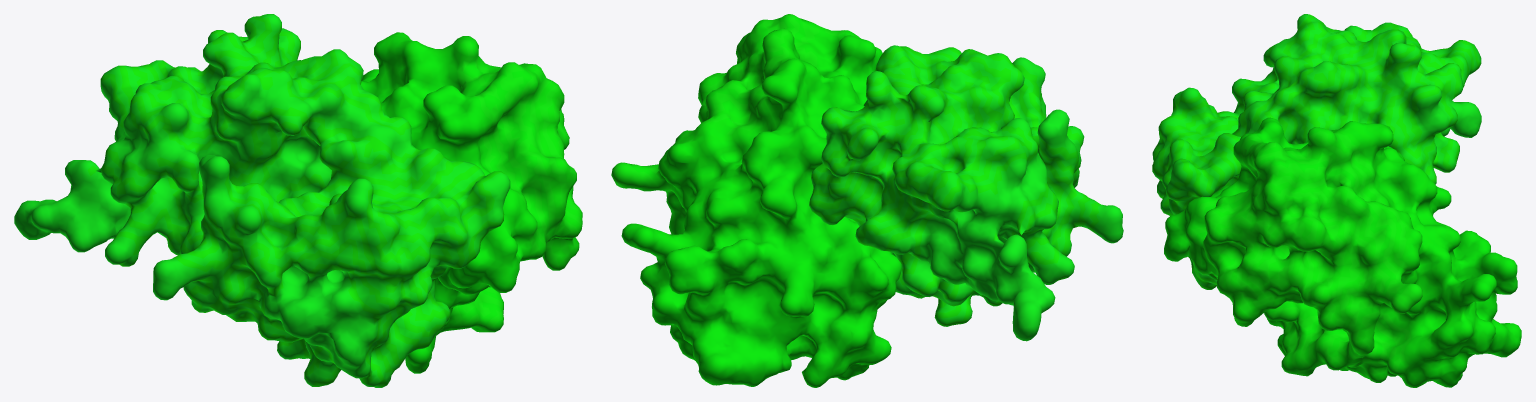
File: Protein chain A & B surface Green2.fbx
The picture shows the model from 3 angles, left to right: view 1: azimuth 30°, elevation 25°; view 2: azimuth 150°, elevation 25°; view 3: azimuth 270°, elevation 25°; orthographic projection. The views are drawn at different scales.
Visible parts, largest first — view 1: node-geom0, node-geom1, node-geom3, node-geom2, node-geom4; view 2: node-geom3, node-geom0, node-geom1, node-geom4, node-geom2; view 3: node-geom3, node-geom2, node-geom0, node-geom4, node-geom1.
Part boxes in pixels (<box>): node-geom0: <box>14,14,510,387</box>; node-geom1: <box>87,15,505,386</box>; node-geom3: <box>362,33,575,373</box>; node-geom2: <box>435,36,582,330</box>; node-geom4: <box>361,32,582,296</box>; node-geom3: <box>621,15,901,387</box>; node-geom0: <box>809,45,1123,341</box>; node-geom1: <box>809,46,1100,326</box>; node-geom4: <box>640,30,861,333</box>; node-geom2: <box>611,14,844,234</box>; node-geom3: <box>1164,117,1521,387</box>; node-geom2: <box>1186,127,1422,382</box>; node-geom0: <box>1152,14,1481,289</box>; node-geom4: <box>1164,121,1486,386</box>; node-geom1: <box>1152,14,1480,289</box>.
Size of the model in its own units: 7172 by 4817 by 5505.
